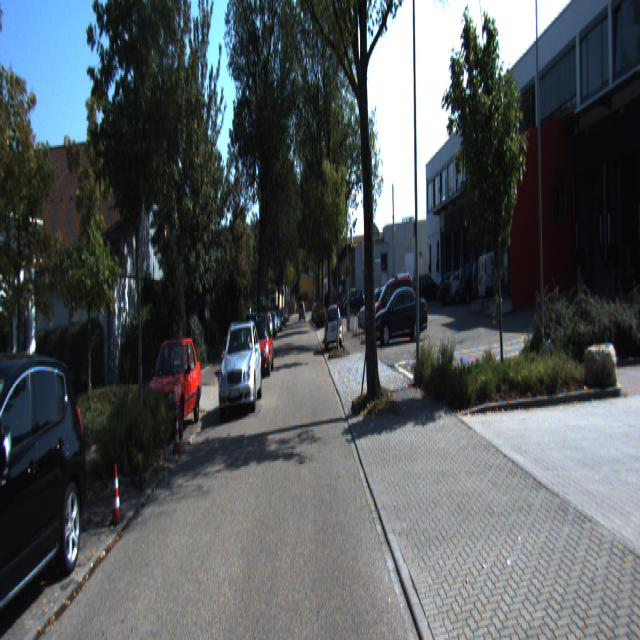Car: (0, 342, 95, 639), (140, 331, 202, 446), (215, 320, 264, 419), (370, 270, 419, 339), (372, 284, 430, 342), (477, 248, 529, 310), (324, 303, 342, 354)
